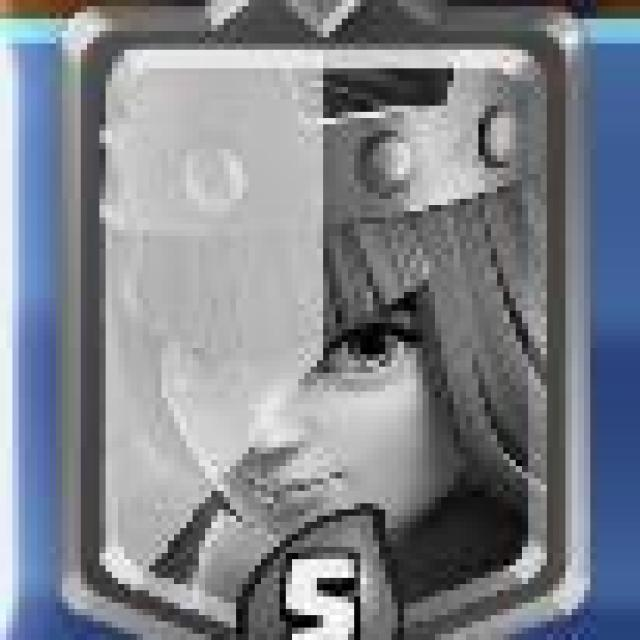Archer_Queen: (54, 0, 595, 640)
